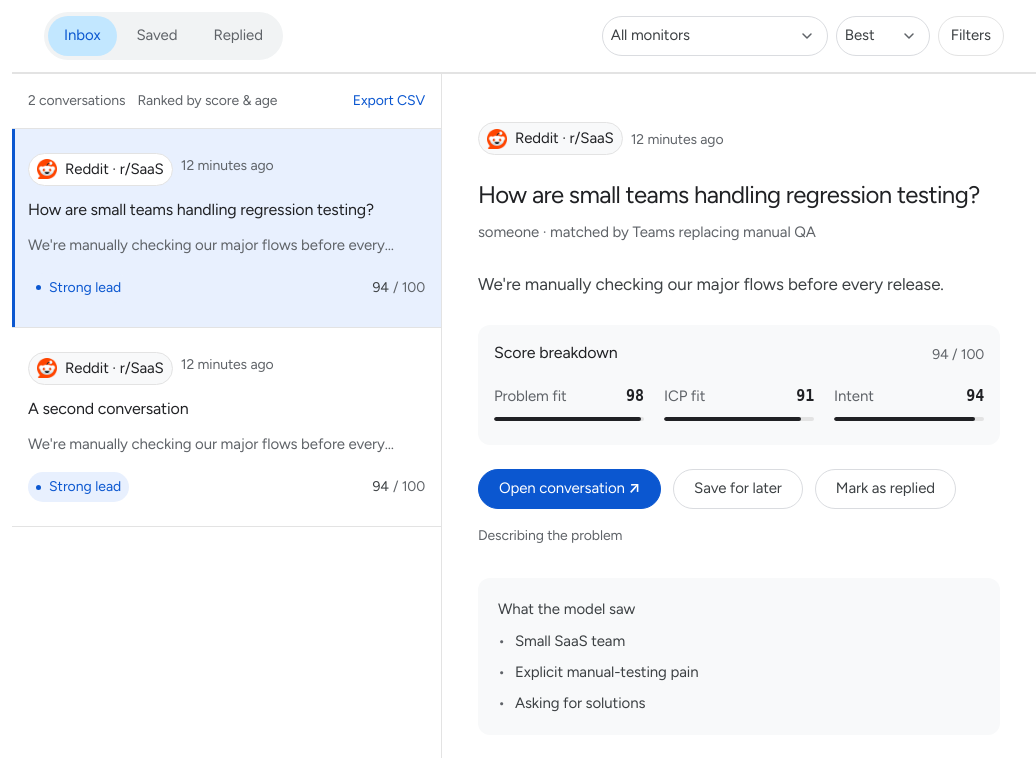
it: the inbox › marking a match replied › takes the row out and reads on when replied matches are hidden
Click the button "Filters": click(971, 36) [938,16,1004,56]
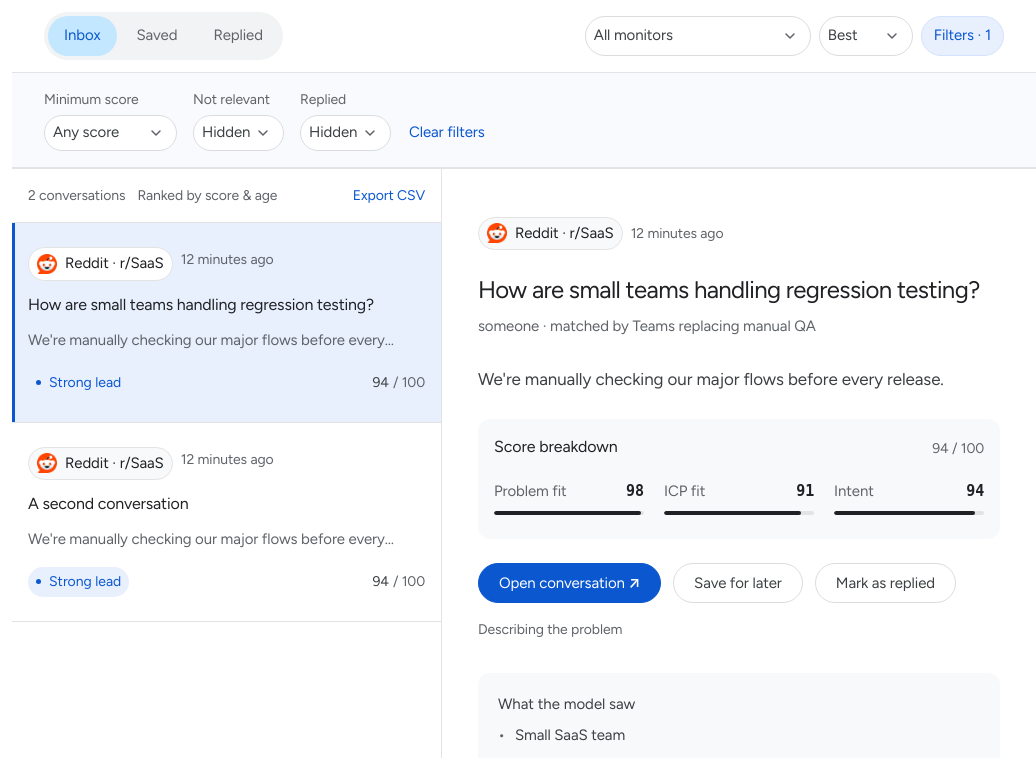
Click the button "Mark as replied": click(885, 583) [815,563,956,603]
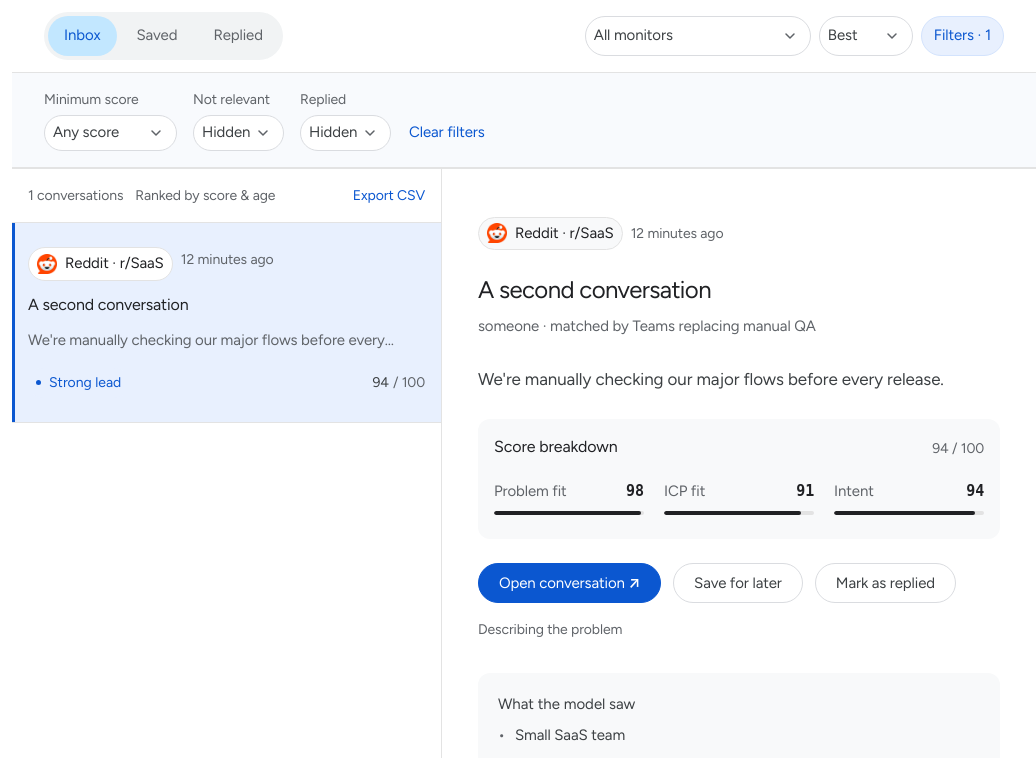
expect the heading with class "detail-title" reads "A second conversation": met, box [478,275,711,304]
